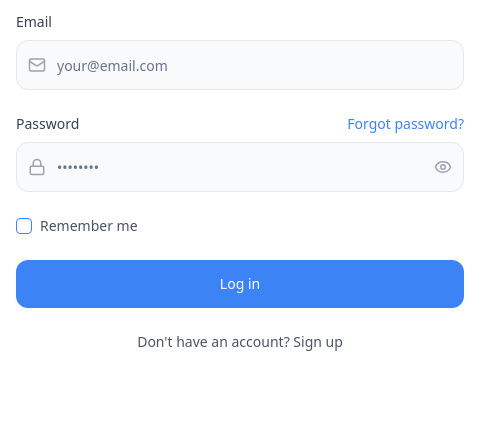
it: LoginForm › handles login failure
This screenshot has width=481, height=438.
In the field labelled "Email": x=240, y=65 [16,40,464,90], type "valid@example.com"
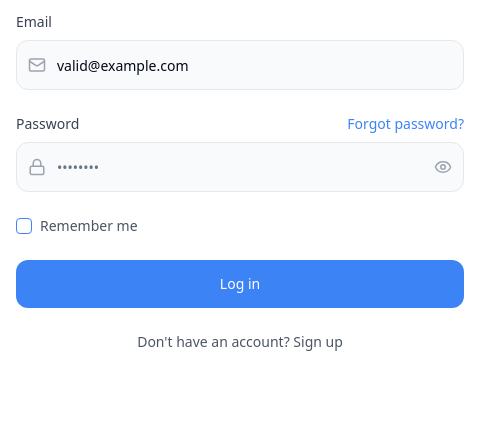
In the password field labelled "Password": x=240, y=167 [16,142,464,192], type "wrongpassword"
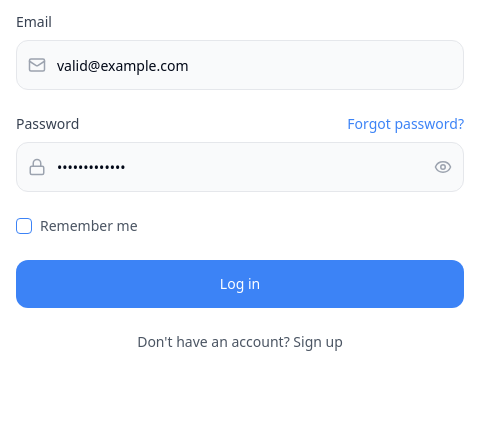
Click the button "Log in": x=240, y=284 [16,260,464,308]
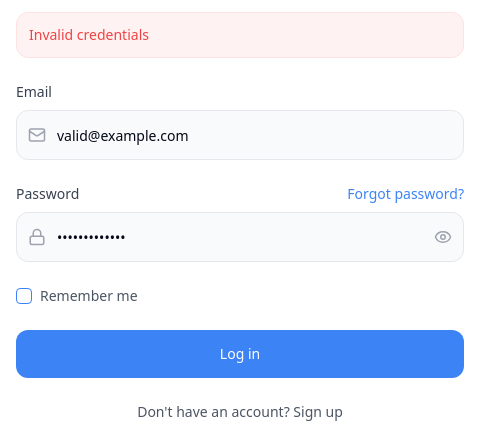
Expected: the text "Invalid credentials" is shown, [16,12,464,58]
